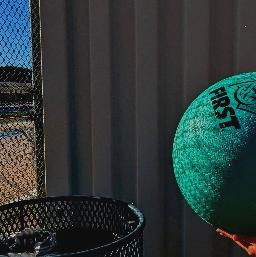algae: (166, 65, 256, 236)
